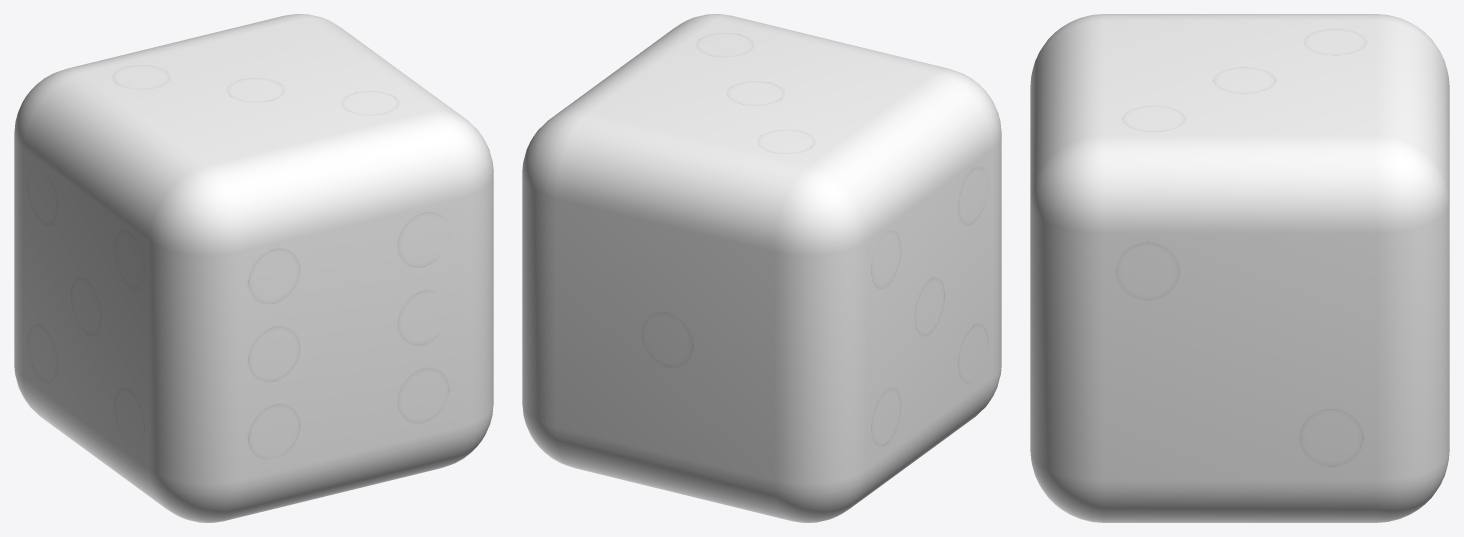
The model's file is ElectronicDice.dae.
3 renders of one model, left to right at view 1: azimuth 30°, elevation 25°; view 2: azimuth 150°, elevation 25°; view 3: azimuth 270°, elevation 25°, orthographic. The views are drawn at different scales.
Parts seen in each view (by area): view 1: Cube; view 2: Cube; view 3: Cube.
Part boxes in pixels (left/top/right/bottom): Cube: left=14, top=14, right=493, bottom=522; Cube: left=522, top=14, right=1001, bottom=522; Cube: left=1030, top=14, right=1449, bottom=522.
Bounding box in the file's own units: 2 × 2 × 2.
